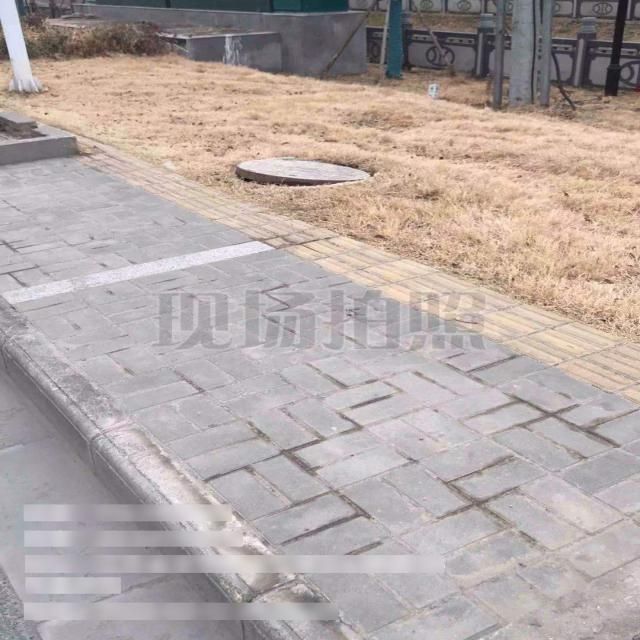Lose: (233, 155, 370, 187)
